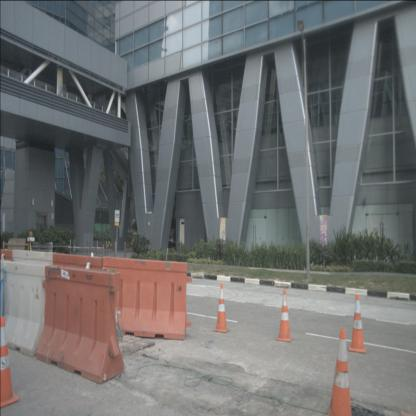barrier: (36, 264, 125, 384), (99, 256, 192, 340), (0, 259, 54, 358)
cone: (327, 328, 353, 416), (0, 317, 19, 408), (348, 294, 367, 354), (275, 288, 294, 342), (213, 282, 229, 333)
